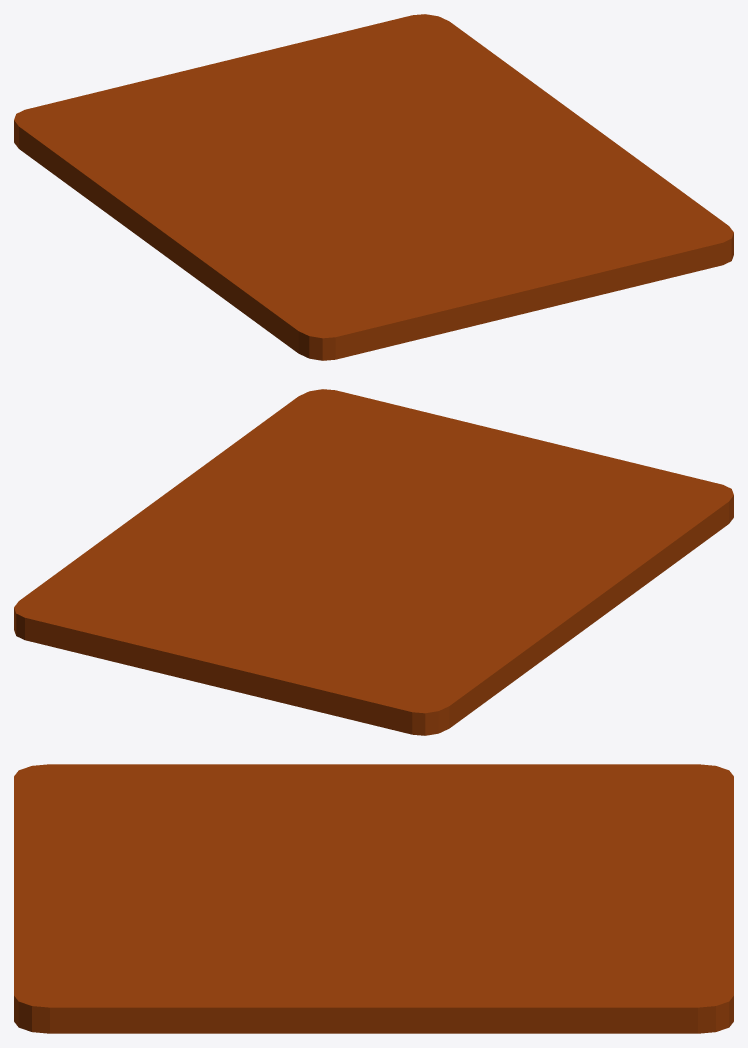
File: Table Top.glb
The picture shows the model from 3 angles, top to bottom: view 1: azimuth 30°, elevation 25°; view 2: azimuth 150°, elevation 25°; view 3: azimuth 270°, elevation 25°; orthographic projection. The views are drawn at different scales.
Parts seen in each view (by area): view 1: Cube; view 2: Cube; view 3: Cube.
Boxes of the visible parts, box(x1,y1,x2,y2) form: Cube: box(14, 14, 733, 360); Cube: box(14, 389, 733, 735); Cube: box(14, 764, 733, 1033).
Size of the model in its own units: 2 by 0.1 by 2.5.
Materials: 1 (1 with a texture image).
